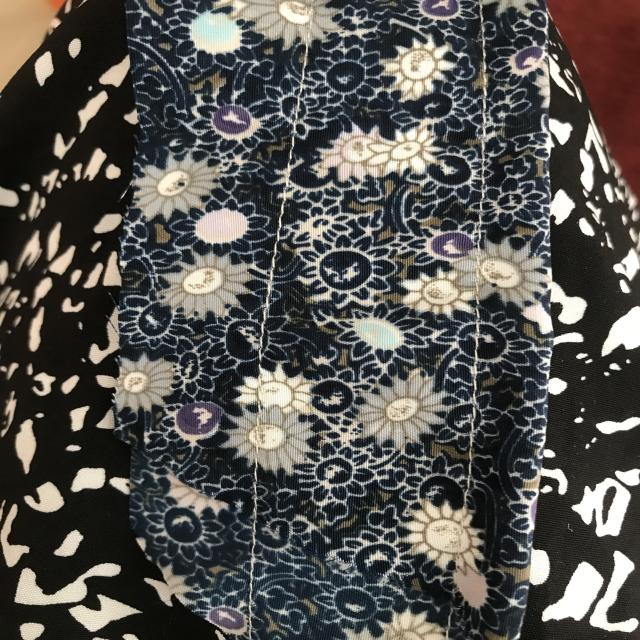good: (229, 462, 278, 592), (248, 183, 292, 303), (474, 52, 508, 184), (468, 329, 482, 456)
